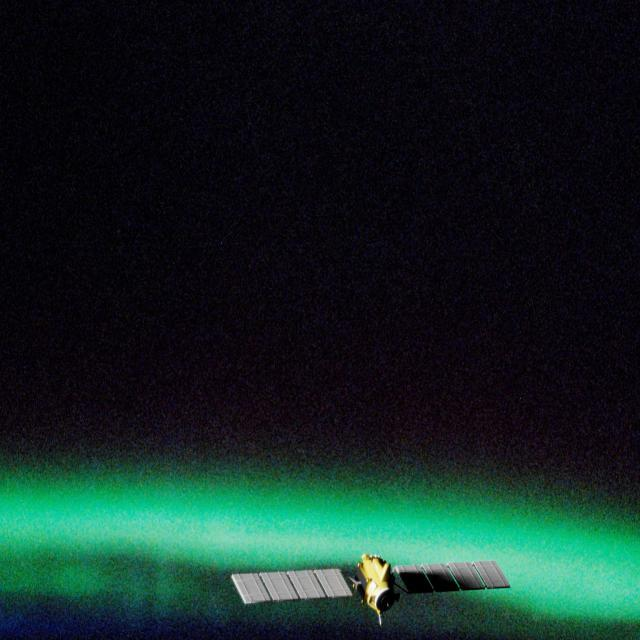satellite: (217, 542, 514, 631)
